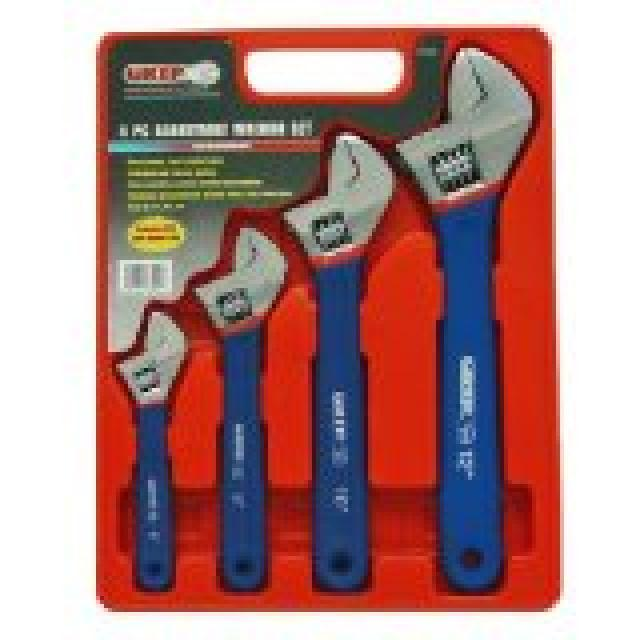wrench: (386, 41, 547, 591), (278, 112, 394, 586), (190, 217, 286, 593), (110, 299, 198, 590)
